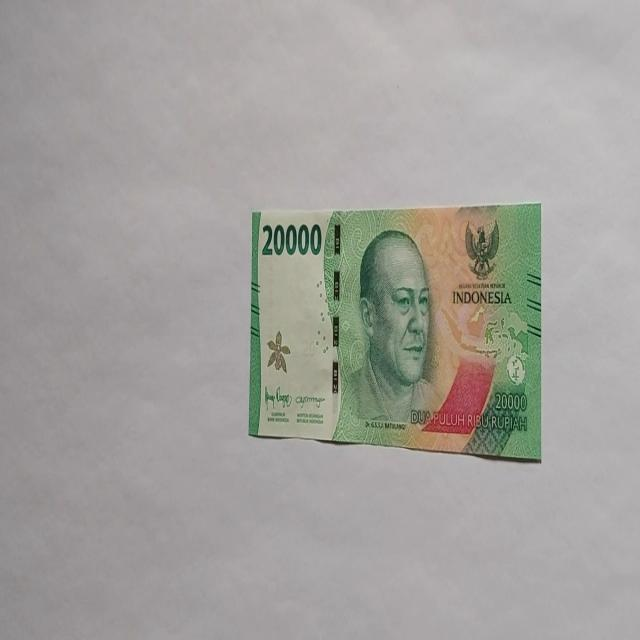dua puluh ribu rupiah: (248, 202, 542, 460), (333, 226, 442, 444)
